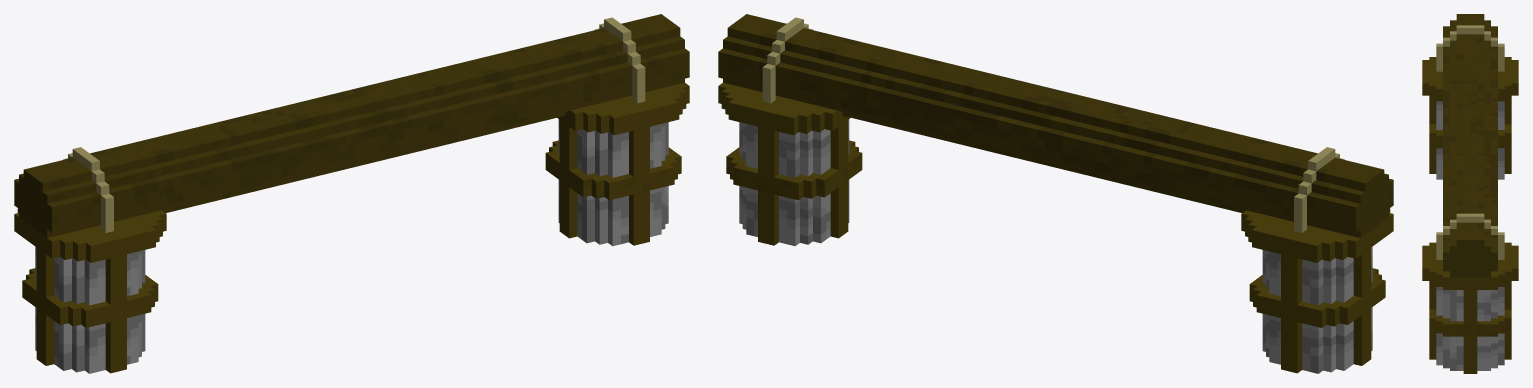
File: ArchFence1_1.obj
3 renders of one model, left to right at view 1: azimuth 30°, elevation 25°; view 2: azimuth 150°, elevation 25°; view 3: azimuth 270°, elevation 25°, orthographic. The views are drawn at different scales.
Bounding box in the file's own units: 7.8 × 2.3 × 1.4.
Materials: 1 (1 with a texture image).
